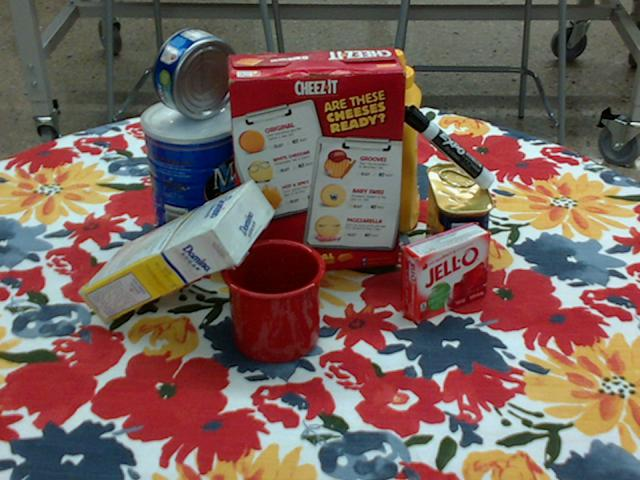cracker_box: (225, 49, 406, 275)
gelatin_box: (401, 222, 491, 323)
large_marker: (401, 105, 494, 189)
master_chef_can: (142, 96, 246, 259)
mug: (220, 237, 326, 362)
mustard_bottle: (367, 50, 421, 233)
potted_meat_can: (425, 163, 494, 280)
sugar_box: (76, 180, 274, 324)
tomato_soup_can: (286, 106, 346, 211)
tuna_fish_can: (152, 27, 237, 119)
